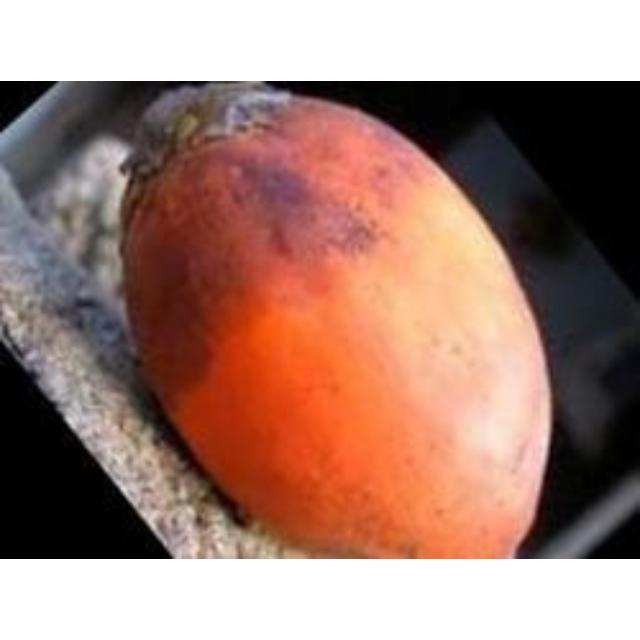good: (113, 81, 556, 557)
